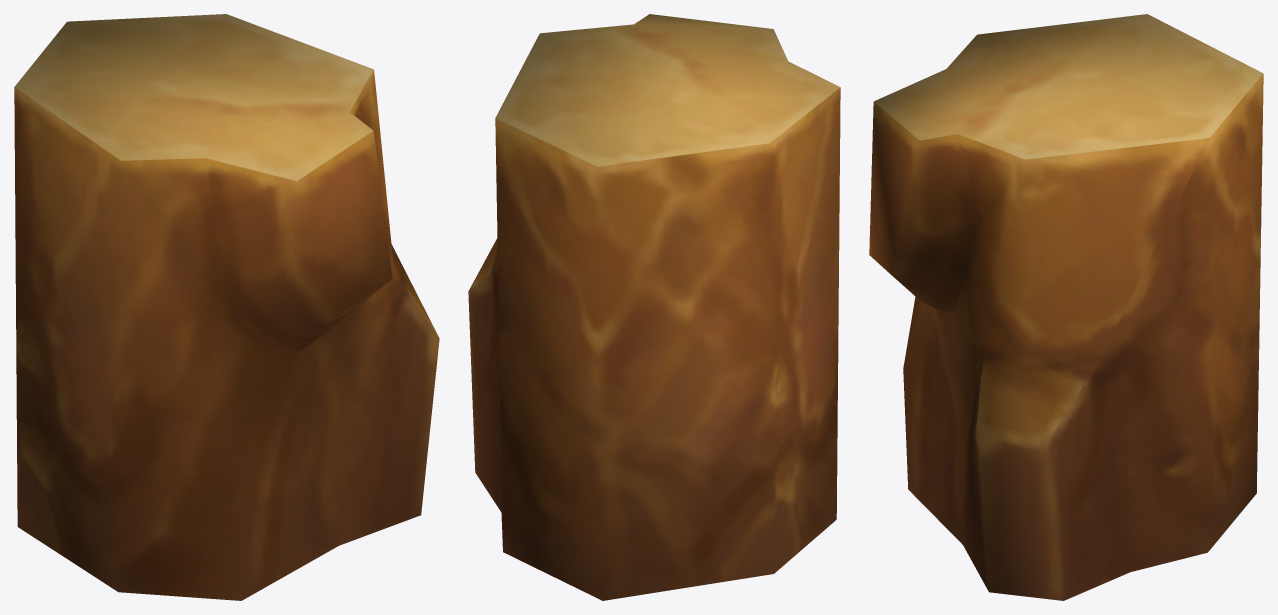
The model's file is Stage_ShaMo_ShanShi12.FBX.
3 views of the same model, side by side, from view 1: azimuth 30°, elevation 25°; view 2: azimuth 150°, elevation 25°; view 3: azimuth 270°, elevation 25° (orthographic). The views are drawn at different scales.
Parts seen in each view (by area): view 1: Stage_ShaMo_ShanShi12; view 2: Stage_ShaMo_ShanShi12; view 3: Stage_ShaMo_ShanShi12.
Boxes of the visible parts, x1,y1,x2,y2 form: Stage_ShaMo_ShanShi12: [14, 14, 439, 600]; Stage_ShaMo_ShanShi12: [468, 14, 840, 600]; Stage_ShaMo_ShanShi12: [869, 14, 1263, 600].
Size of the model in its own units: 334 by 399 by 334.
